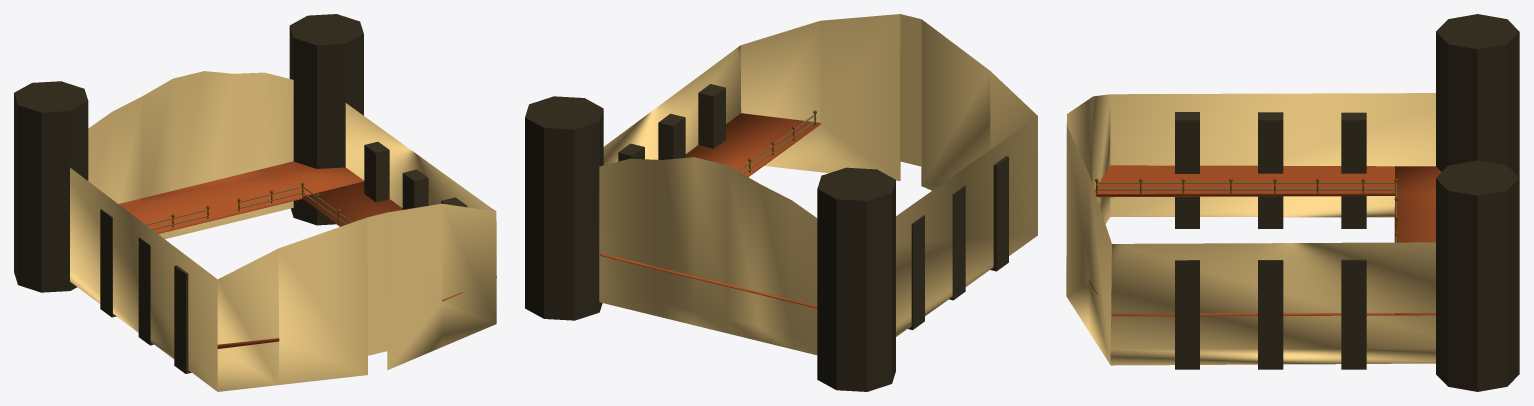
File: NewStageSlect.fbx
The picture shows the model from 3 angles, left to right: view 1: azimuth 30°, elevation 25°; view 2: azimuth 150°, elevation 25°; view 3: azimuth 270°, elevation 25°; orthographic projection. The views are drawn at different scales.
Visible parts, largest first — view 1: Stage.048; view 2: Stage.048; view 3: Stage.048.
Part boxes in pixels (box(x1,y1,x2,y2)): Stage.048: box(14, 14, 496, 391); Stage.048: box(525, 14, 1037, 391); Stage.048: box(1066, 14, 1519, 391).
Bounding box in the file's own units: 15014 × 7551 × 15811.
